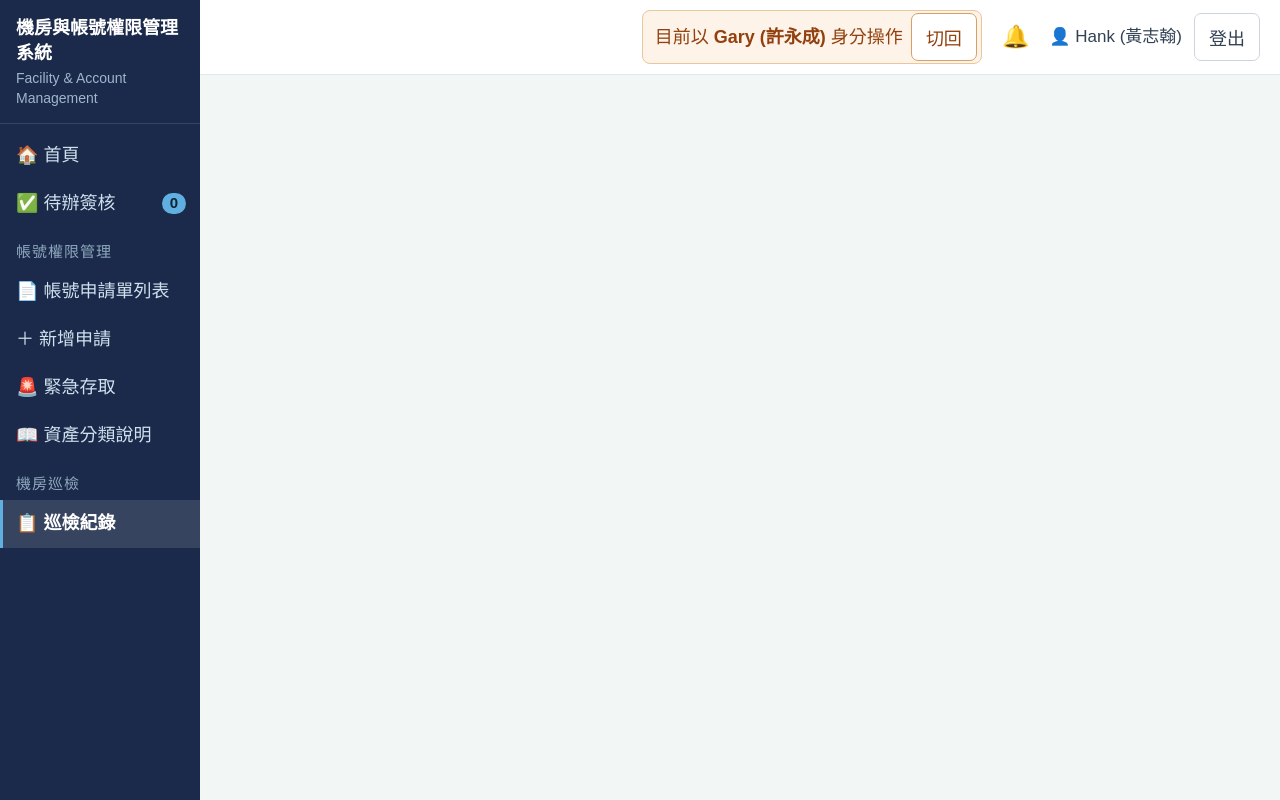
Test: AppLayout › 切換中固定顯示 U01＋切回；切回後目前頁無權限 → 首頁
The width and height of the screenshot is (1280, 800).
expect the element with class "imp-banner" shows "目前以 Gary (許永成) 身分操作": met, box [642,10,982,64]
expect the text with class "who" shows "Hank (黃志翰)": met, box [1049,27,1182,46]
Click the button with class "imp-end" at (944,37), box [911,13,977,61]
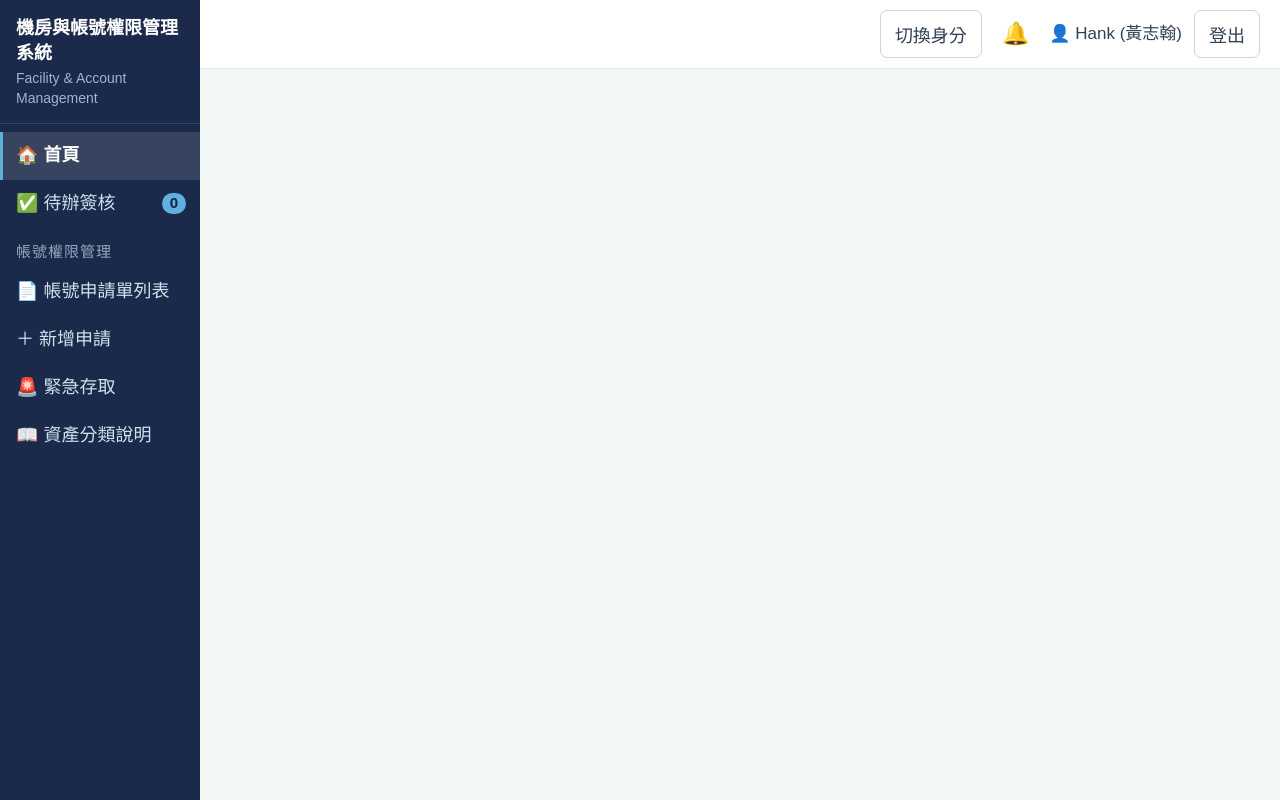
expect the button with class "imp-start" is shown: met, box [880,10,982,58]
